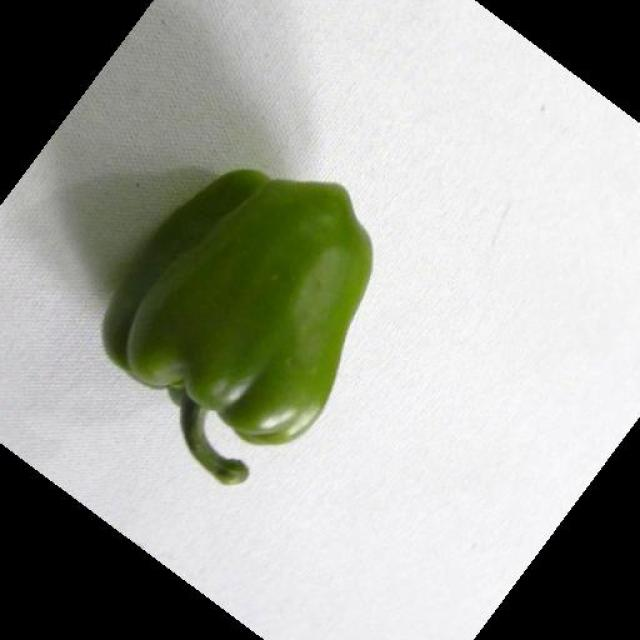Fresh_Capsicum: (136, 161, 380, 454)
